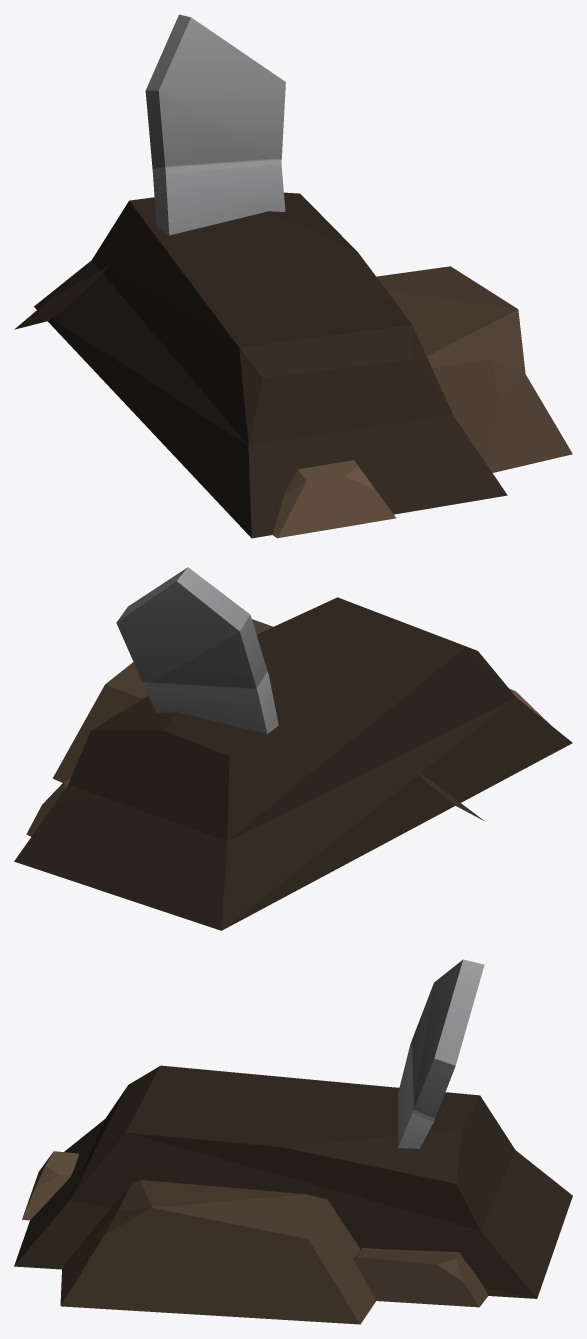
Rendered from ea_grave_sand_mini_02b_pre__3__lev1.glb.
The picture shows the model from 3 angles, top to bottom: view 1: azimuth 30°, elevation 25°; view 2: azimuth 150°, elevation 25°; view 3: azimuth 270°, elevation 25°; orthographic projection. The views are drawn at different scales.
Parts seen in each view (by area): view 1: ea_grave_sand_mini_02b_pre__3__lev1; view 2: ea_grave_sand_mini_02b_pre__3__lev1; view 3: ea_grave_sand_mini_02b_pre__3__lev1.
Part boxes in pixels (<box>): ea_grave_sand_mini_02b_pre__3__lev1: <box>14,14,572,538</box>; ea_grave_sand_mini_02b_pre__3__lev1: <box>14,567,572,930</box>; ea_grave_sand_mini_02b_pre__3__lev1: <box>14,959,572,1324</box>.
Size of the model in its own units: 1.29 by 0.9973 by 1.82.
1 material, 1 textured.
